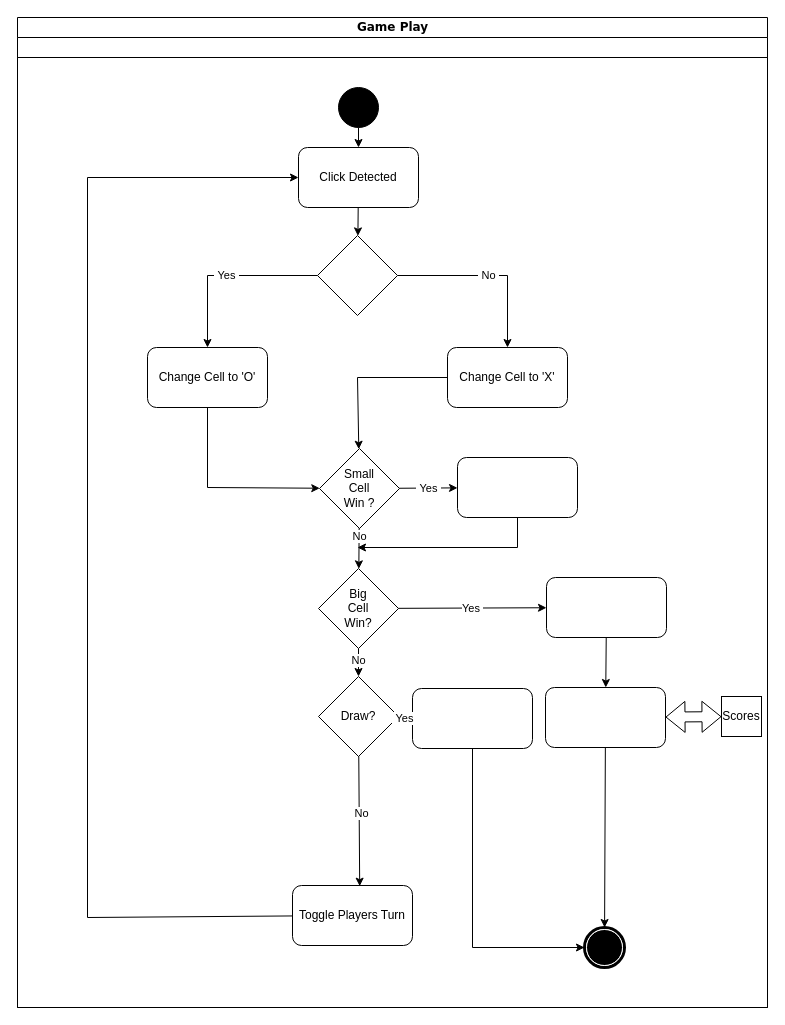
This 785x1025 diagram has some shape labels left out. The centre of each missing label's shape, as x and y in pixels:
"Change Cells to show small win" goes at point 517,487.
"O's turn?" goes at point 357,275.
"Show Draw" goes at point 472,718.
"Show Win" goes at point 606,607.
"Update Score" goes at point 605,717.
